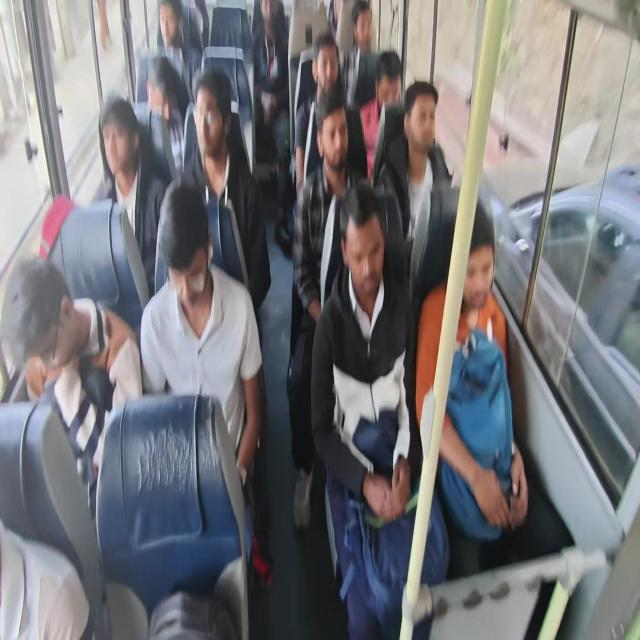person: (446, 230, 502, 319), (336, 195, 384, 298), (162, 205, 212, 302), (7, 288, 61, 368), (97, 98, 137, 183), (318, 106, 362, 178), (408, 88, 442, 166), (190, 88, 225, 160), (349, 10, 391, 67), (144, 67, 178, 127), (378, 62, 406, 114), (314, 48, 338, 92), (158, 16, 183, 51), (254, 0, 280, 32)
